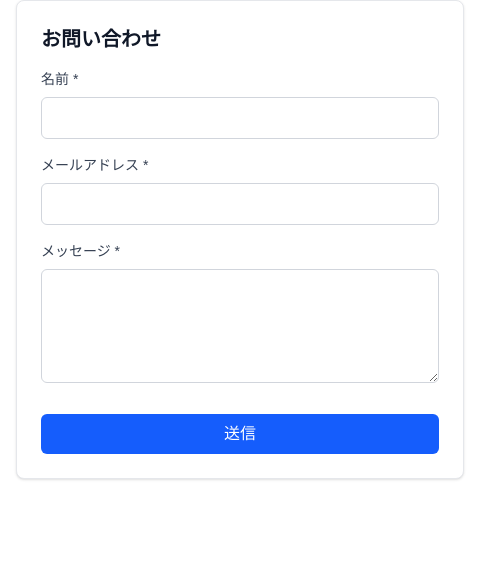
ContactForm Integration › clears errors when user starts typing
// エラーを発生させる
Step 1. Click the button with test id "submit-button" → (240, 434), box x1=41 y1=414 x2=439 y2=454
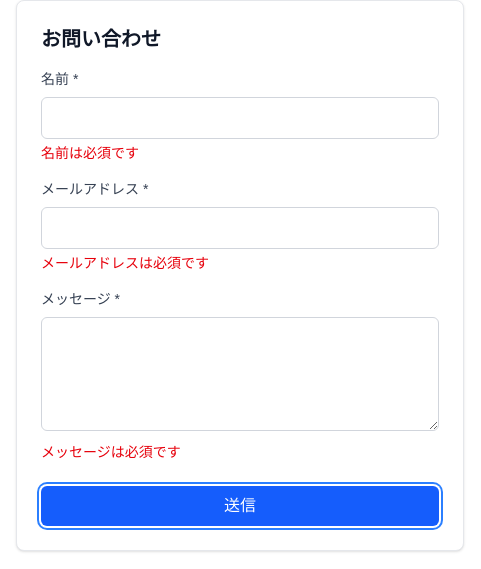
Expected: the text "名前は必須です" is shown, x1=41 y1=145 x2=139 y2=161
// 入力を開始するとエラーがクリアされる
Step 2. Type "田中" into the field with test id "name-input" → (240, 118), box x1=41 y1=97 x2=439 y2=139
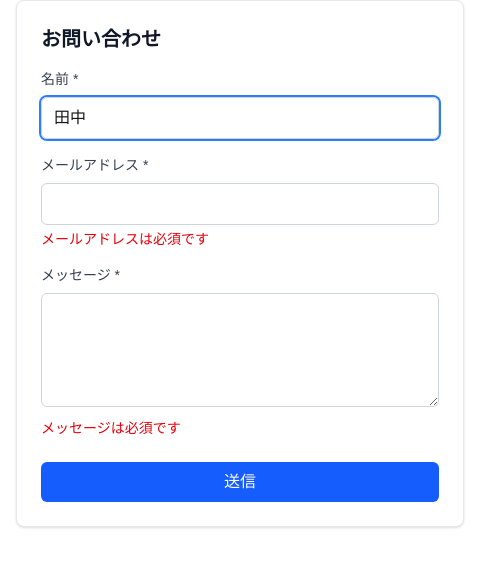
Expected: the text with test id "name-error" is gone
